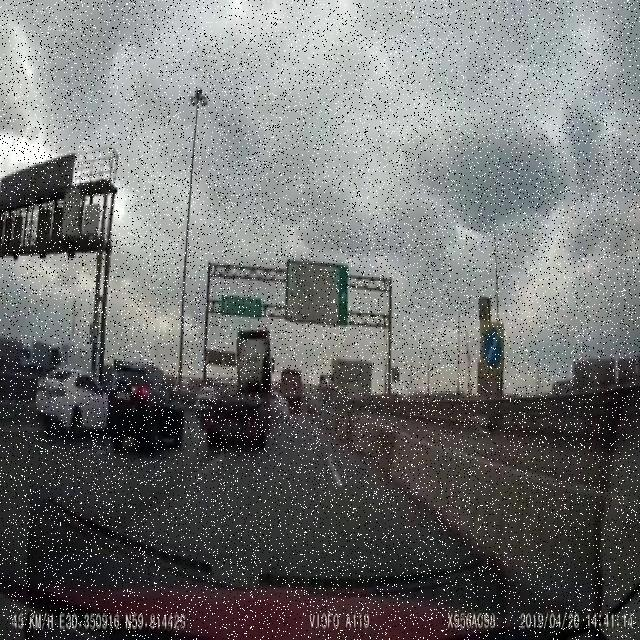high-cars-accident: (42, 310, 289, 480)
